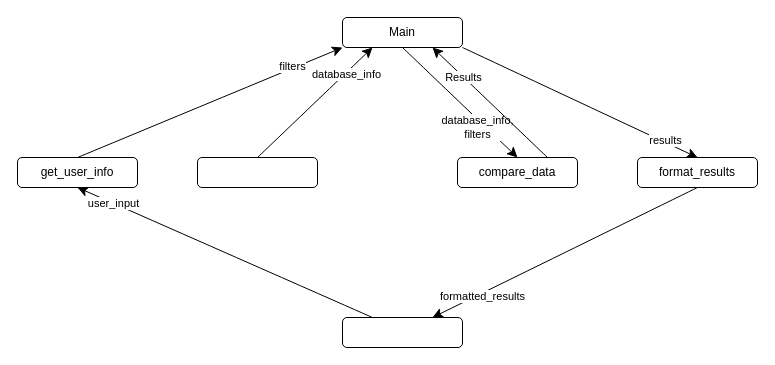
Image size: 775x365. Some labels were removed from this diagram. Each missing label, with the box of its shape:
get_database_info: (196, 156, 318, 188)
GUI: (342, 316, 462, 348)
